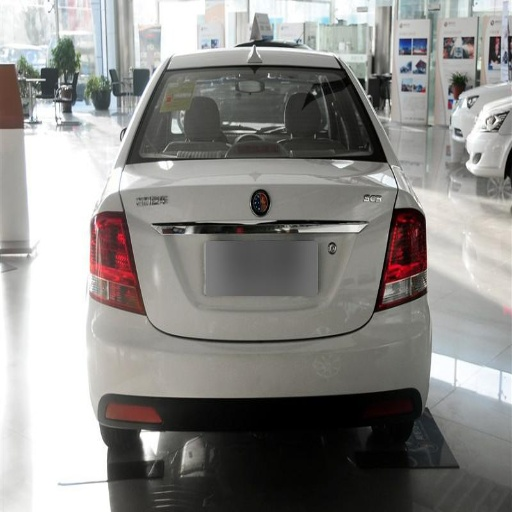back_bumper: (90, 295, 449, 481)
tailgate: (115, 159, 398, 336)
